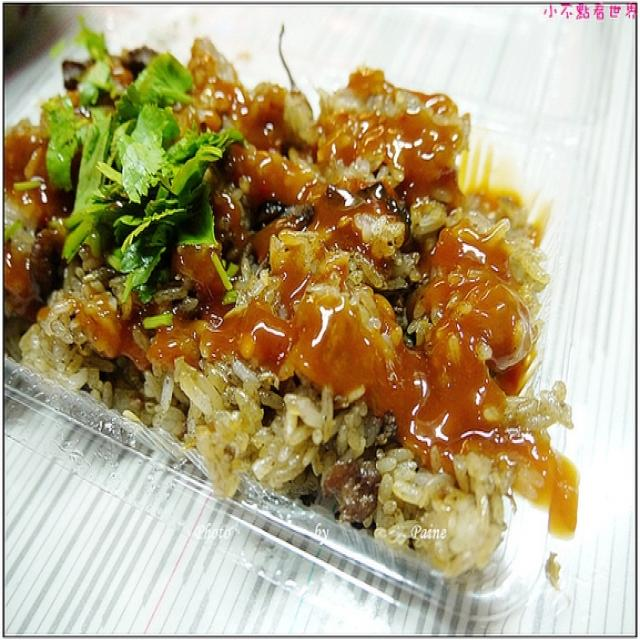米饭主食: (13, 37, 569, 594)
